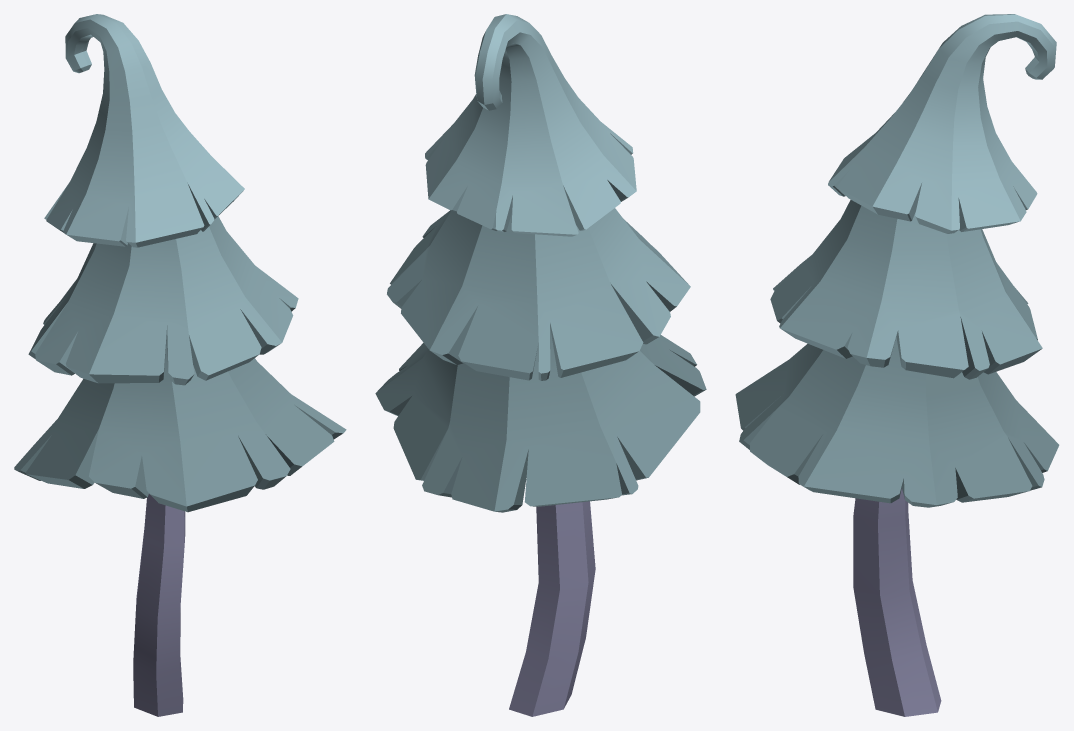
File: Mystic_Tree_S_B1.fbx
The picture shows the model from 3 angles, left to right: view 1: azimuth 30°, elevation 25°; view 2: azimuth 150°, elevation 25°; view 3: azimuth 270°, elevation 25°; orthographic projection. The views are drawn at different scales.
Parts seen in each view (by area): view 1: Mystic_Tree_S_B1; view 2: Mystic_Tree_S_B1; view 3: Mystic_Tree_S_B1.
Part boxes in pixels (box(x1,y1,x2,y2)): Mystic_Tree_S_B1: box(14, 14, 346, 716); Mystic_Tree_S_B1: box(375, 14, 706, 716); Mystic_Tree_S_B1: box(735, 14, 1059, 716).
Size of the model in its own units: 266 by 650 by 278.
